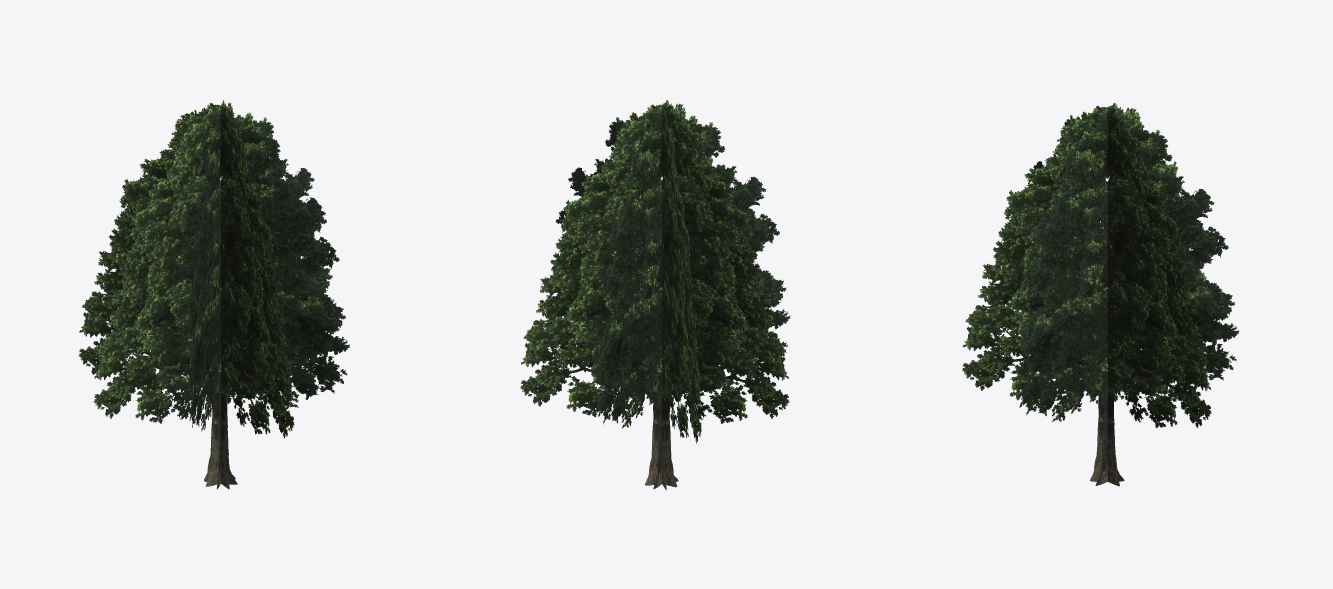
The model's file is Tree_06_STATIC.fbx.
The picture shows the model from 3 angles, left to right: view 1: azimuth 30°, elevation 25°; view 2: azimuth 150°, elevation 25°; view 3: azimuth 270°, elevation 25°; orthographic projection.
Visible parts, largest first — view 1: Tree_06_STATIC; view 2: Tree_06_STATIC; view 3: Tree_06_STATIC.
Boxes of the visible parts, x1=… form: Tree_06_STATIC: x1=78, y1=100, x2=349, y2=489; Tree_06_STATIC: x1=520, y1=100, x2=790, y2=490; Tree_06_STATIC: x1=962, y1=103, x2=1239, y2=486.
Size of the model in its own units: 1420 by 1420 by 1420.
